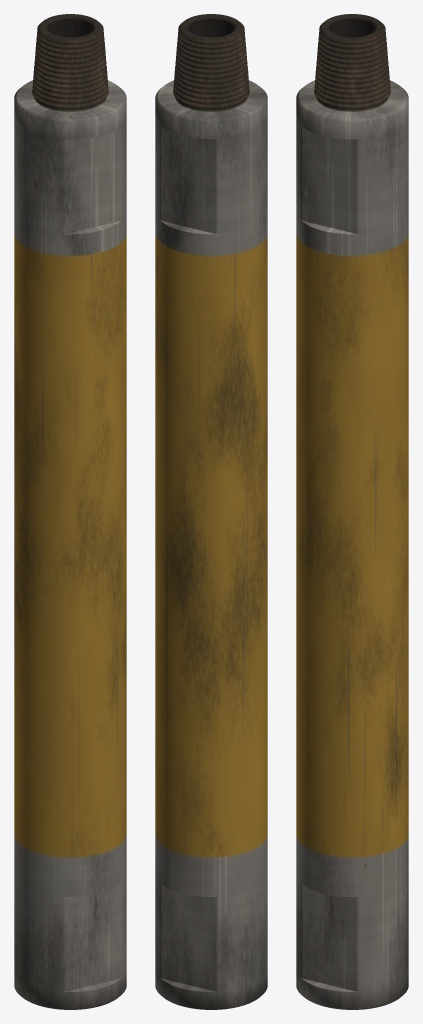
File: SM_Tige_5_1_2po_4pi_Jaune.glb
3 renders of one model, left to right at view 1: azimuth 30°, elevation 25°; view 2: azimuth 150°, elevation 25°; view 3: azimuth 330°, elevation 25°, orthographic.
Visible parts, largest first — view 1: Tige_5_1_2po_4pi_Jaune; view 2: Tige_5_1_2po_4pi_Jaune; view 3: Tige_5_1_2po_4pi_Jaune.
Part boxes in pixels (x1=…): Tige_5_1_2po_4pi_Jaune: x1=14, y1=14, x2=126, y2=1009; Tige_5_1_2po_4pi_Jaune: x1=155, y1=14, x2=267, y2=1009; Tige_5_1_2po_4pi_Jaune: x1=296, y1=14, x2=408, y2=1009.
Size of the model in its own units: 0.1397 by 1.31 by 0.1397.
Materials: 1 (1 with a texture image).
